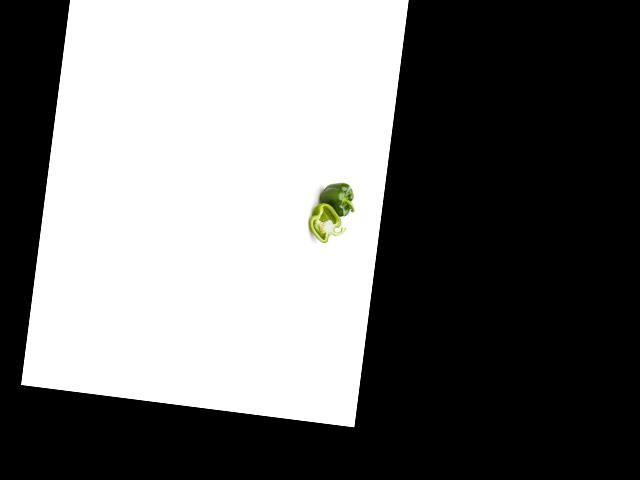bell_pepper: (307, 200, 350, 247)
